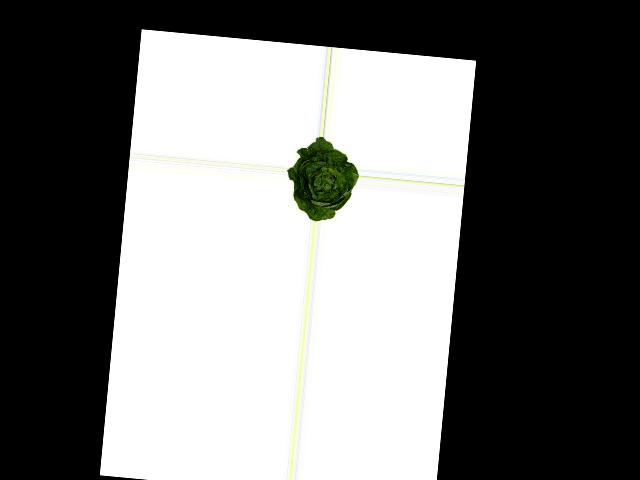lettuce: (283, 136, 361, 225)
